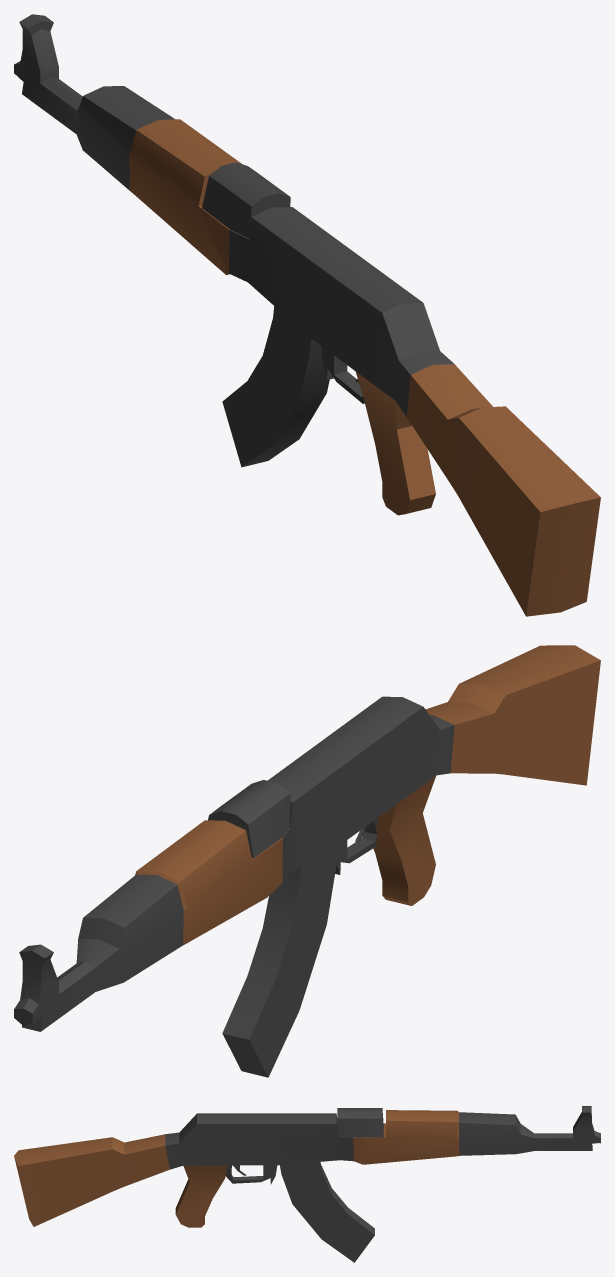
3 renders of one model, top to bottom at view 1: azimuth 30°, elevation 25°; view 2: azimuth 150°, elevation 25°; view 3: azimuth 270°, elevation 25°, orthographic. The views are drawn at different scales.
Visible parts, largest first — view 1: Cube; view 2: Cube; view 3: Cube.
Part boxes in pixels (<box>): Cube: <box>14,14,600,616</box>; Cube: <box>14,645,600,1077</box>; Cube: <box>14,1106,600,1262</box>.
Bounding box in the file's own units: 0.1455 × 0.6574 × 2.29.
